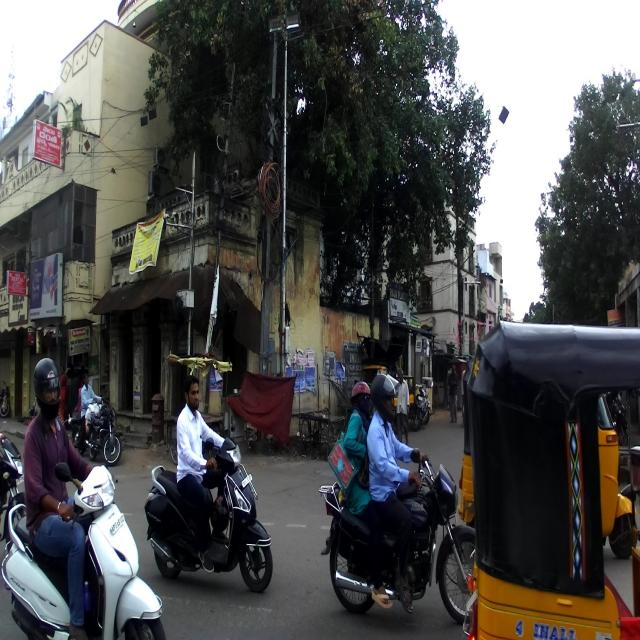autorickshaw: (460, 317, 639, 638), (354, 364, 416, 436)
motorcycle_Hero: (319, 448, 474, 626), (0, 435, 26, 550), (85, 392, 122, 464)
motorcycle_TVS: (77, 396, 109, 459)
scooter: (0, 457, 166, 638), (144, 419, 273, 594)
